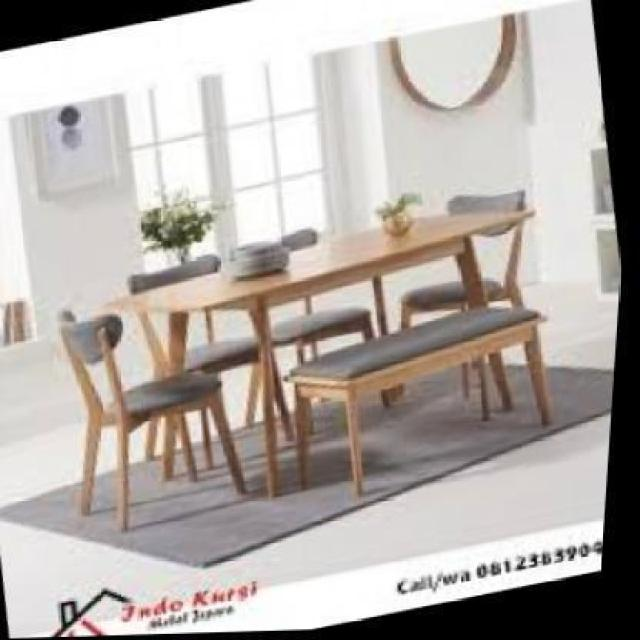tables: (114, 204, 537, 498)
